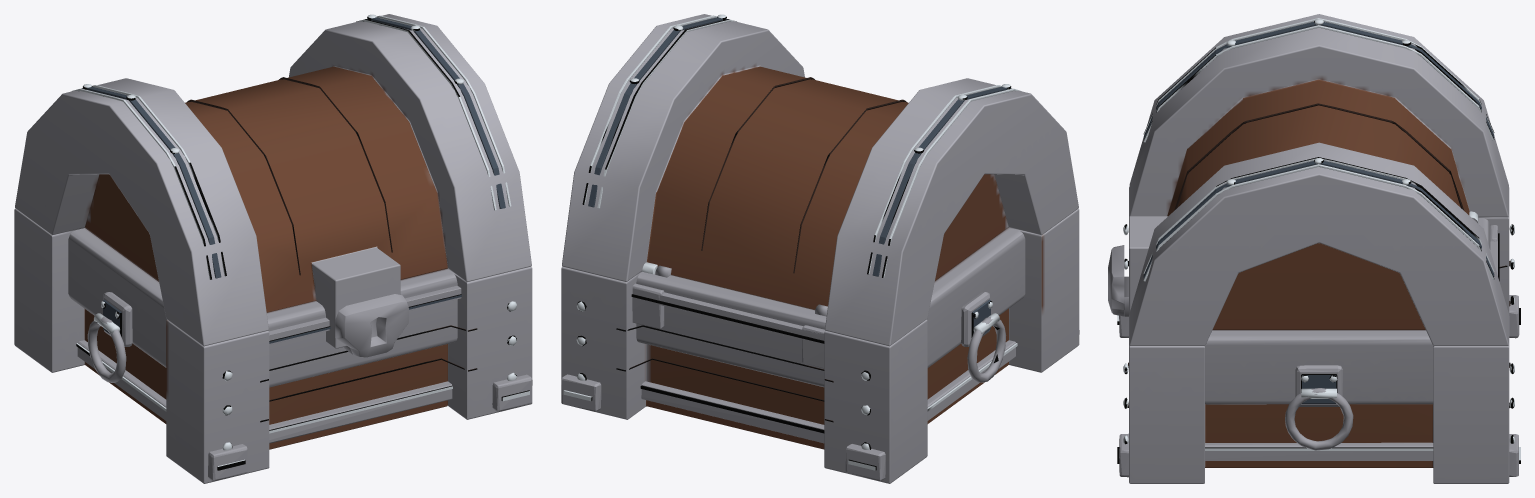
Rendered from duskwatch-coffer.glb.
3 renders of one model, left to right at view 1: azimuth 30°, elevation 25°; view 2: azimuth 150°, elevation 25°; view 3: azimuth 270°, elevation 25°, orthographic.
Parts seen in each view (by area): view 1: LidShell, Body; view 2: LidShell, Body; view 3: LidShell, Body.
Boxes of the visible parts, x1,y1,x2,y2 form: LidShell: [15, 14, 531, 357]; Body: [14, 208, 532, 483]; LidShell: [562, 14, 1078, 346]; Body: [561, 208, 1079, 483]; LidShell: [1108, 14, 1508, 345]; Body: [1117, 187, 1520, 483].
Bounding box in the file's own units: 2 × 1.76 × 2.09.
1 material, 1 textured.
